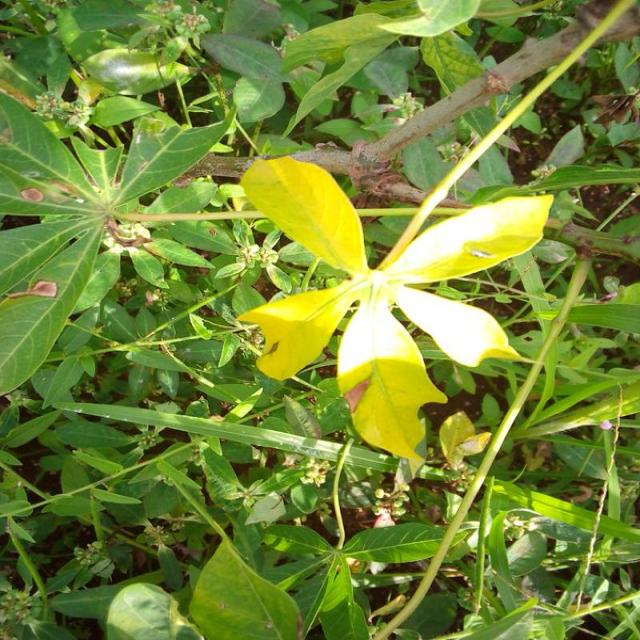cassava leaf: (236, 150, 555, 473)
